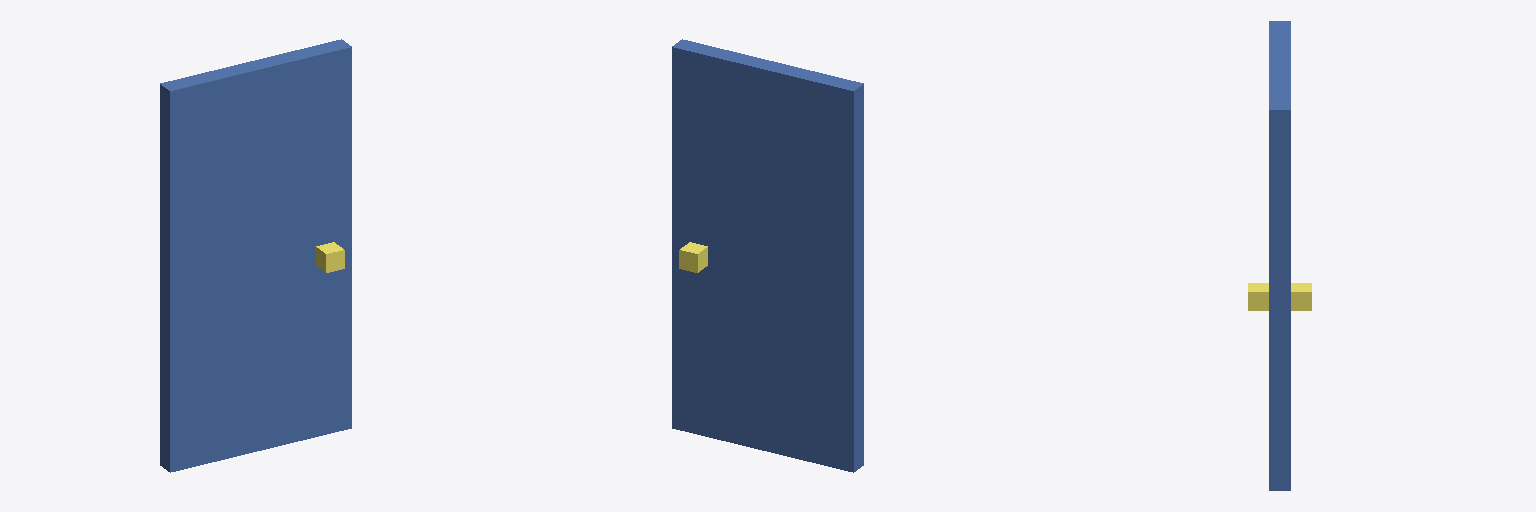
3 views of the same model, side by side, from view 1: azimuth 30°, elevation 25°; view 2: azimuth 150°, elevation 25°; view 3: azimuth 270°, elevation 25° (orthographic).
Visible parts, largest first — view 1: Model; view 2: Model; view 3: Model.
Boxes of the visible parts, box(x1,y1,x2,y2) form: Model: box(160, 39, 351, 472); Model: box(672, 39, 863, 472); Model: box(1248, 21, 1311, 490).
Size of the model in its own units: 16 by 32 by 4.8.
Materials: 1 (1 with a texture image).